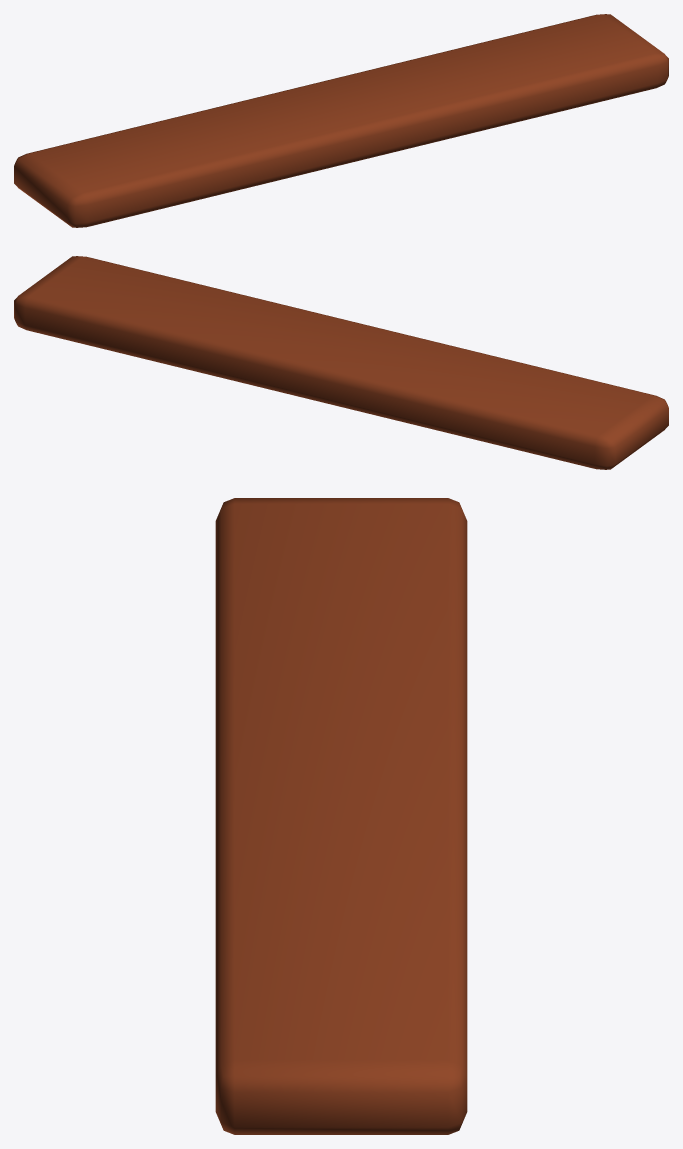
File: planche 5.fbx
3 renders of one model, top to bottom at view 1: azimuth 30°, elevation 25°; view 2: azimuth 150°, elevation 25°; view 3: azimuth 270°, elevation 25°, orthographic. The views are drawn at different scales.
Parts seen in each view (by area): view 1: Planche 5; view 2: Planche 5; view 3: Planche 5.
Part boxes in pixels (box(x1,y1,x2,y2)): Planche 5: box(14, 14, 668, 227); Planche 5: box(14, 256, 668, 469); Planche 5: box(215, 498, 467, 1134).
Size of the model in its own units: 136 by 7.45 by 24.64.
